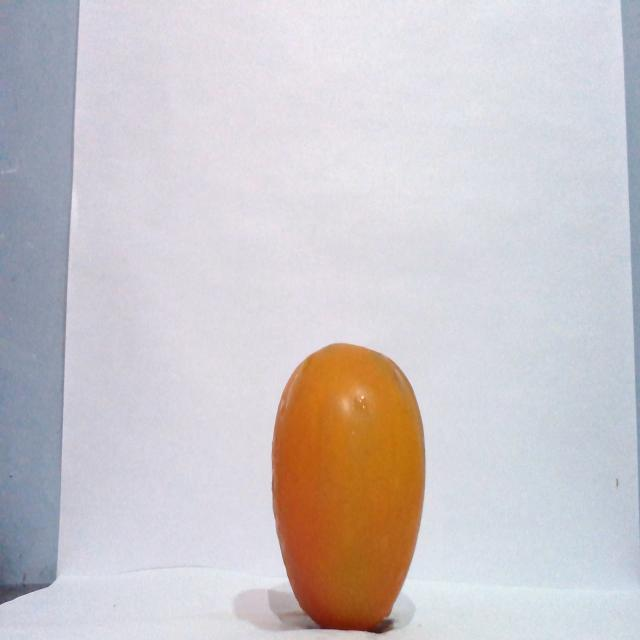Red: (269, 341, 426, 631)
